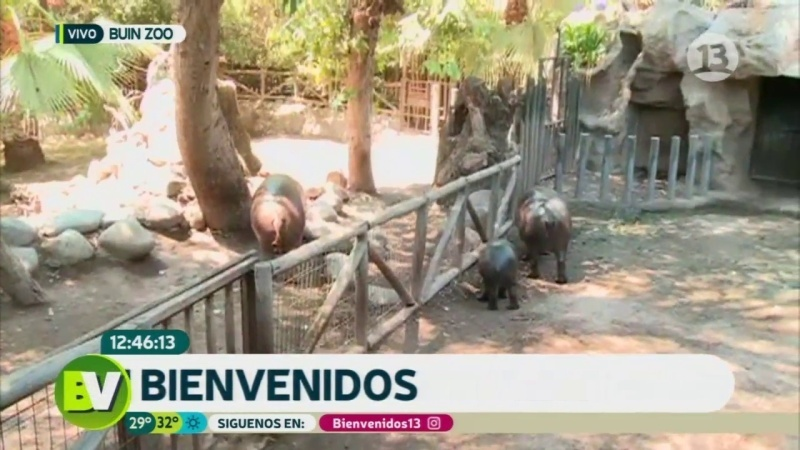hipopotamo: (235, 159, 313, 274), (509, 178, 585, 291), (465, 224, 532, 321)
